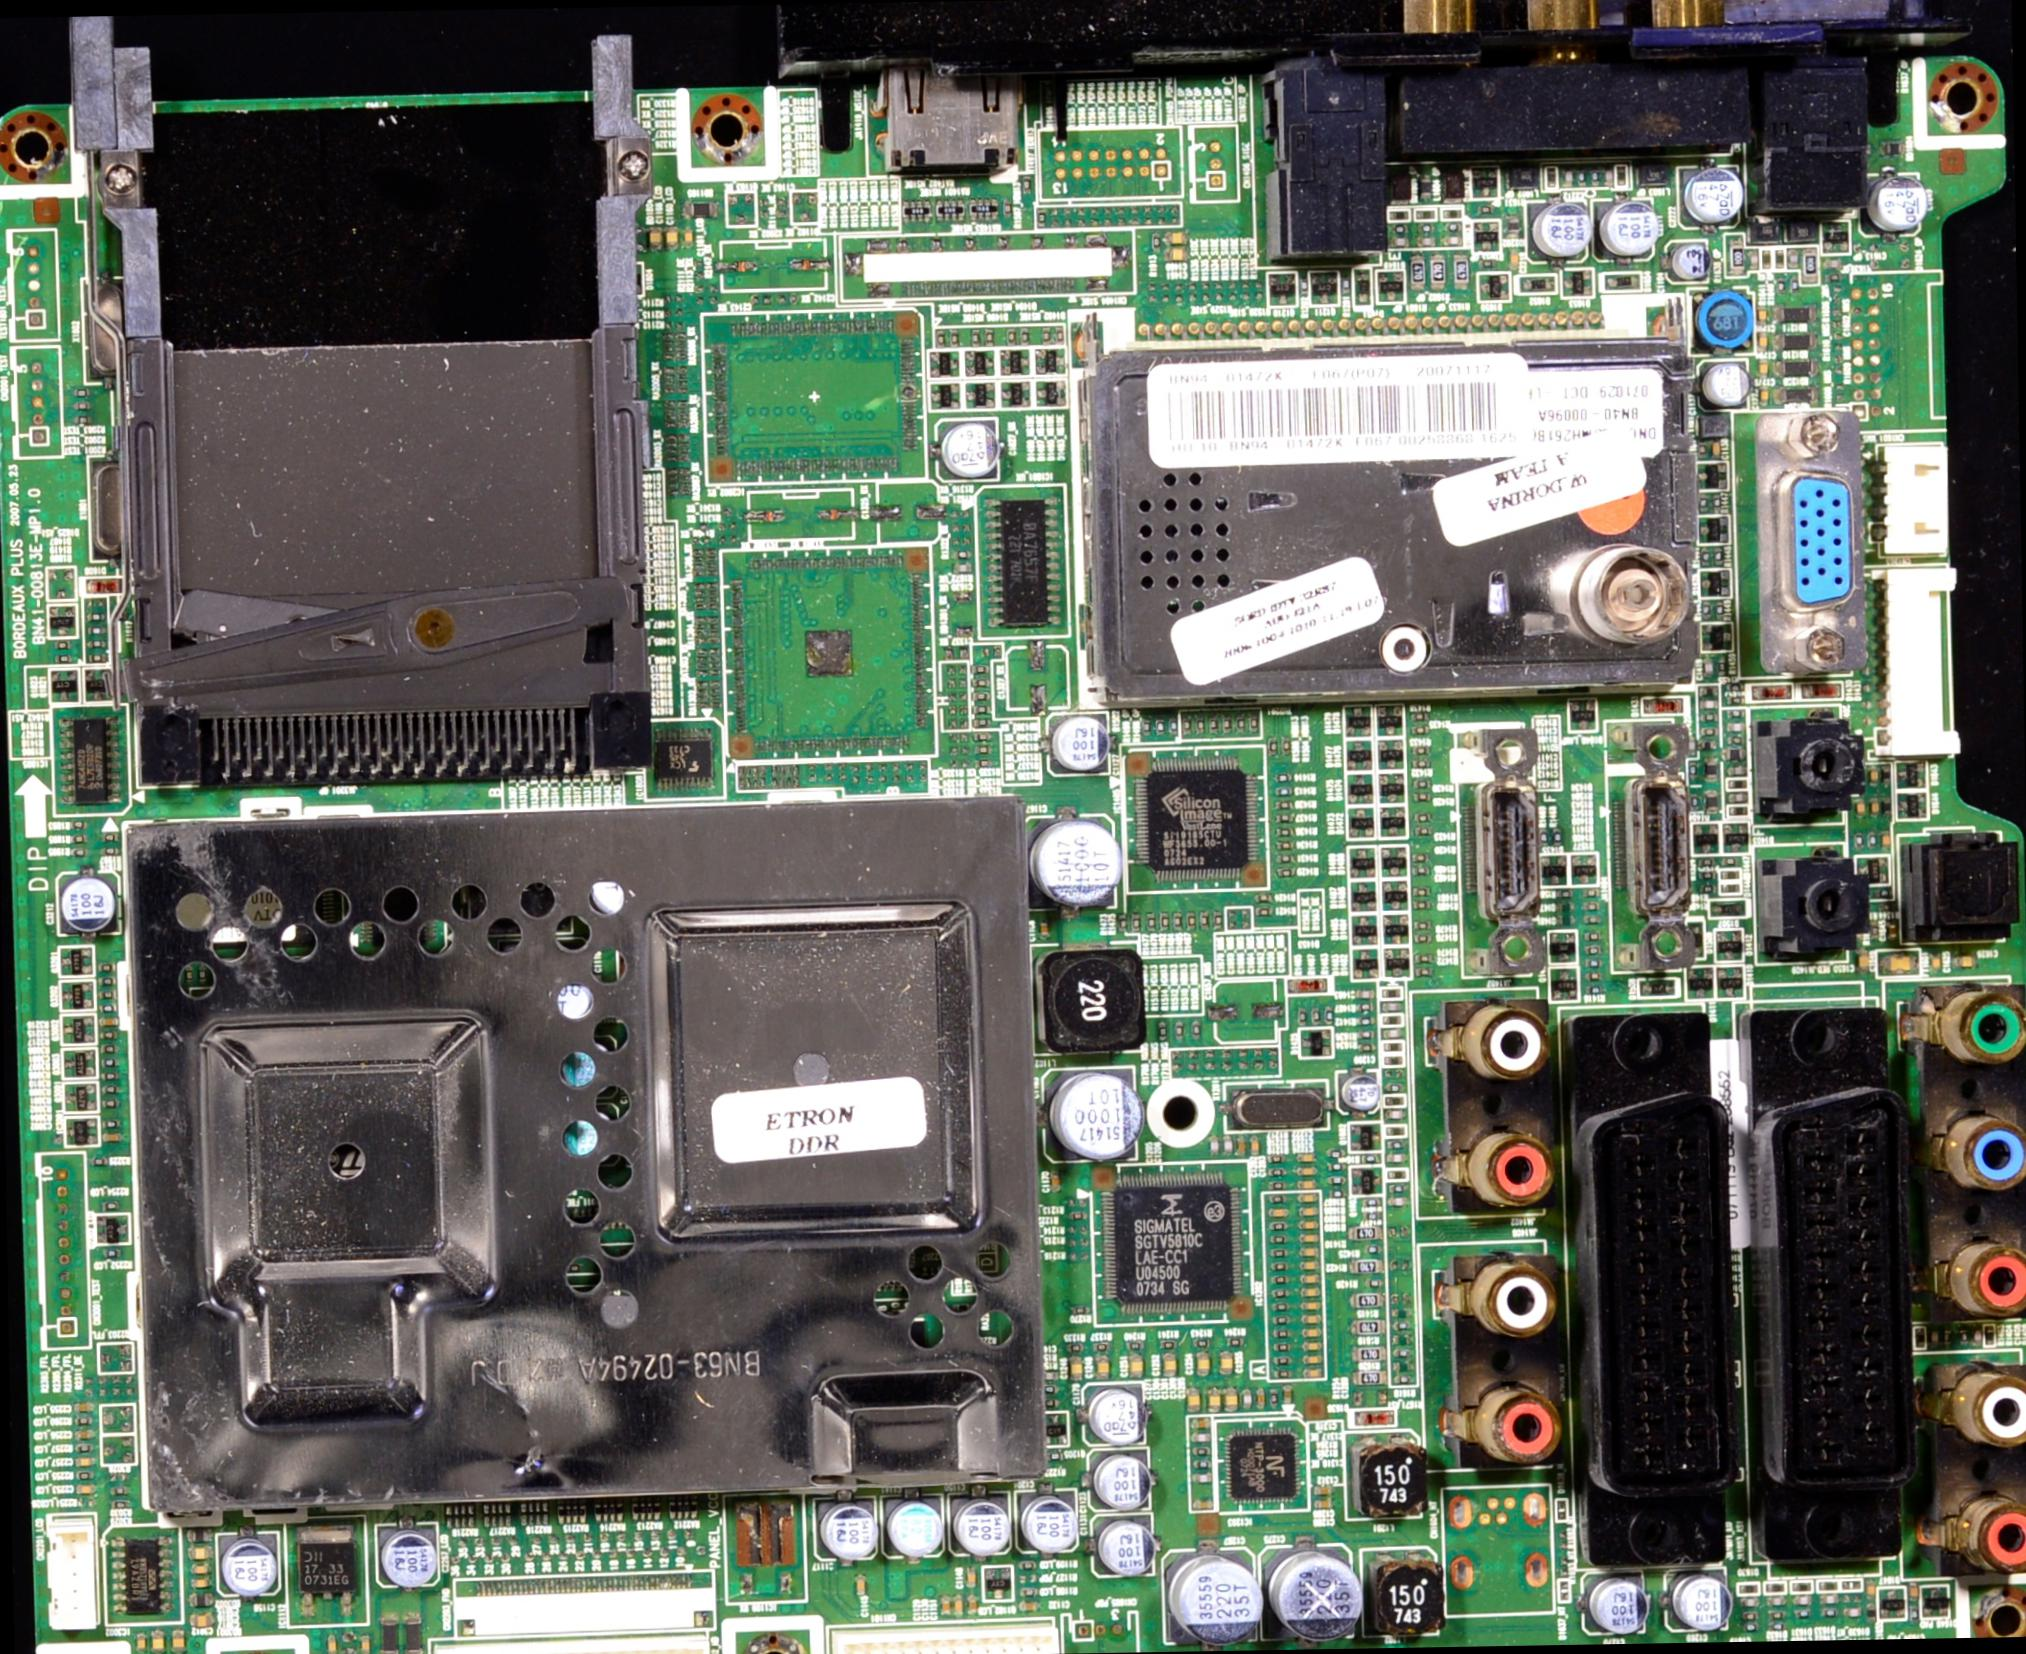Capacitor Jumper: (1878, 953, 1919, 976), (1196, 1352, 1212, 1376), (1186, 1388, 1202, 1412), (1094, 1356, 1111, 1378), (1128, 1356, 1146, 1376), (172, 1630, 188, 1652), (187, 1546, 212, 1560), (1068, 1358, 1083, 1381), (1855, 950, 1868, 976), (1207, 1388, 1221, 1412), (1219, 1350, 1232, 1374), (1190, 1497, 1216, 1509), (665, 226, 678, 250), (98, 1013, 120, 1027), (1162, 1353, 1175, 1376), (1280, 1383, 1293, 1406), (1223, 1388, 1236, 1411), (1234, 1134, 1247, 1156), (133, 1630, 146, 1652), (1164, 247, 1186, 260), (1756, 330, 1769, 352), (102, 1130, 122, 1144), (150, 1632, 164, 1652), (1249, 1134, 1260, 1158), (188, 1614, 212, 1625), (190, 1561, 210, 1574), (1929, 951, 1940, 974), (854, 1578, 868, 1596), (1763, 1595, 1784, 1607), (682, 227, 694, 248), (361, 1631, 372, 1653), (1164, 233, 1186, 244), (188, 1578, 212, 1588), (966, 1595, 978, 1615), (1790, 1594, 1811, 1605), (650, 226, 661, 247), (1739, 1596, 1762, 1606), (1755, 305, 1767, 324), (1816, 1594, 1838, 1604), (1843, 1608, 1863, 1619), (326, 1633, 337, 1653), (1298, 1191, 1316, 1203), (1254, 1388, 1266, 1406), (1957, 954, 1972, 968), (1017, 1602, 1038, 1612), (1313, 1496, 1333, 1506), (1757, 359, 1767, 379), (1868, 765, 1878, 785), (1869, 796, 1879, 816), (1880, 830, 1889, 852), (1854, 800, 1866, 816), (1049, 1172, 1059, 1191), (1298, 1180, 1317, 1190), (1300, 1246, 1319, 1256), (1190, 1418, 1209, 1428), (1311, 1484, 1330, 1494), (1843, 1592, 1858, 1604), (1302, 1368, 1324, 1376), (75, 1429, 94, 1438), (940, 1596, 949, 1615), (1300, 1260, 1317, 1270), (76, 1458, 94, 1467), (952, 1597, 961, 1615), (1296, 1166, 1316, 1174), (1300, 1206, 1316, 1216), (1302, 1328, 1322, 1336), (967, 1568, 975, 1588), (1302, 1341, 1321, 1349), (1298, 1154, 1316, 1162), (1269, 1208, 1287, 1216), (1300, 1221, 1318, 1229), (1299, 1234, 1317, 1242), (74, 1404, 92, 1412), (1759, 389, 1768, 405), (1302, 1302, 1319, 1310), (1302, 1314, 1319, 1322), (1305, 1354, 1322, 1362), (1302, 1275, 1318, 1283), (1301, 1288, 1316, 1296), (76, 1484, 95, 1490)
IC: (720, 545, 936, 759), (699, 310, 926, 484), (1089, 1163, 1244, 1322), (975, 482, 1066, 638), (282, 1515, 366, 1623), (1214, 1418, 1308, 1514), (720, 1496, 805, 1602), (51, 704, 130, 814), (102, 1522, 180, 1625)
Resistor Jumper: (1222, 1336, 1248, 1348), (1273, 1325, 1293, 1340), (1256, 902, 1276, 917), (1143, 912, 1158, 932), (1198, 910, 1210, 933), (1190, 1459, 1212, 1471), (1270, 1287, 1290, 1300), (1272, 1354, 1295, 1365), (109, 1497, 132, 1508), (102, 1028, 120, 1042), (1275, 797, 1296, 809), (1210, 910, 1222, 931), (1184, 912, 1198, 930), (1115, 913, 1128, 932), (1379, 987, 1401, 998), (1272, 1342, 1294, 1353), (1274, 1367, 1296, 1378), (1254, 891, 1276, 902), (1193, 1338, 1213, 1350), (1126, 1340, 1146, 1352), (1158, 1338, 1176, 1351), (1129, 912, 1142, 930), (102, 1096, 121, 1108), (1272, 1312, 1291, 1324), (1278, 810, 1294, 824), (1270, 1302, 1292, 1312), (1275, 866, 1295, 877), (104, 1118, 122, 1130), (1066, 1340, 1084, 1352), (1071, 1304, 1092, 1314), (71, 847, 90, 858), (1275, 826, 1294, 837), (1159, 911, 1170, 930), (77, 1468, 93, 1481), (91, 1156, 108, 1168), (1266, 1166, 1286, 1176), (1266, 1180, 1286, 1190), (1272, 772, 1292, 782), (1270, 1247, 1288, 1258), (1270, 1261, 1288, 1272), (74, 1441, 92, 1452), (1279, 737, 1290, 755), (1172, 912, 1183, 930), (1270, 1276, 1289, 1286), (1411, 725, 1430, 735), (1154, 718, 1165, 735), (1414, 965, 1432, 975), (1267, 1154, 1285, 1164), (1268, 1221, 1288, 1230), (71, 385, 89, 395), (86, 611, 104, 621), (1248, 714, 1258, 732), (1181, 716, 1191, 734), (1168, 716, 1178, 734), (1268, 738, 1278, 756), (1411, 758, 1429, 768), (1414, 790, 1429, 802), (1276, 852, 1294, 862), (1414, 778, 1430, 789), (1414, 865, 1430, 876), (1274, 841, 1293, 850), (97, 962, 114, 972), (98, 976, 115, 986), (99, 989, 116, 999), (1356, 1029, 1373, 1039), (111, 1484, 128, 1494), (1195, 715, 1205, 732), (1411, 744, 1428, 754), (54, 654, 75, 662), (100, 1002, 116, 1012), (1358, 1042, 1374, 1052), (102, 1070, 118, 1080), (1270, 1234, 1286, 1244), (1093, 1342, 1109, 1352), (1191, 1448, 1211, 1456), (88, 652, 104, 662), (70, 818, 86, 828), (1585, 930, 1601, 940), (102, 843, 116, 854), (1584, 959, 1601, 968), (1268, 1193, 1285, 1202), (1142, 718, 1151, 735), (1210, 717, 1219, 734), (1275, 786, 1292, 795), (100, 1042, 115, 1052), (1415, 932, 1430, 942), (1355, 1003, 1373, 1011), (72, 400, 90, 408), (72, 415, 90, 423), (1410, 712, 1428, 720), (1223, 714, 1231, 732), (1415, 812, 1429, 822), (1584, 901, 1598, 911), (1588, 986, 1605, 994), (1357, 1017, 1374, 1025), (87, 625, 104, 633), (1582, 915, 1599, 923), (1585, 946, 1600, 955), (1585, 972, 1600, 981), (74, 1416, 90, 1424), (88, 638, 104, 646), (1235, 714, 1243, 730), (1584, 889, 1600, 897), (1415, 922, 1431, 930), (1416, 954, 1431, 962), (104, 1057, 116, 1067), (73, 832, 85, 842), (1413, 888, 1428, 896), (1415, 901, 1430, 909), (105, 1085, 116, 1095), (1415, 852, 1426, 862), (54, 640, 69, 647), (100, 833, 116, 839), (1416, 827, 1430, 833)
Transistor: (1308, 270, 1345, 306), (49, 664, 82, 701), (1713, 964, 1745, 1001), (59, 980, 95, 1012), (57, 946, 93, 978), (60, 1050, 98, 1080), (1682, 965, 1714, 999), (1918, 1586, 1950, 1620), (45, 566, 76, 601), (59, 1015, 96, 1044), (1546, 930, 1578, 963), (1875, 1585, 1906, 1619), (1374, 269, 1404, 304), (1267, 270, 1296, 306), (1478, 270, 1511, 300), (44, 602, 74, 635), (1549, 966, 1577, 1001), (83, 667, 112, 700), (1473, 218, 1501, 252), (1713, 929, 1741, 962), (1720, 820, 1748, 853), (66, 1118, 98, 1146), (1568, 698, 1596, 730), (1602, 272, 1642, 294), (1691, 824, 1720, 854), (1470, 167, 1498, 198), (1708, 899, 1748, 920), (63, 1084, 96, 1109), (1562, 268, 1590, 296), (1045, 1410, 1068, 1444), (1352, 266, 1372, 304), (1517, 276, 1556, 294)
